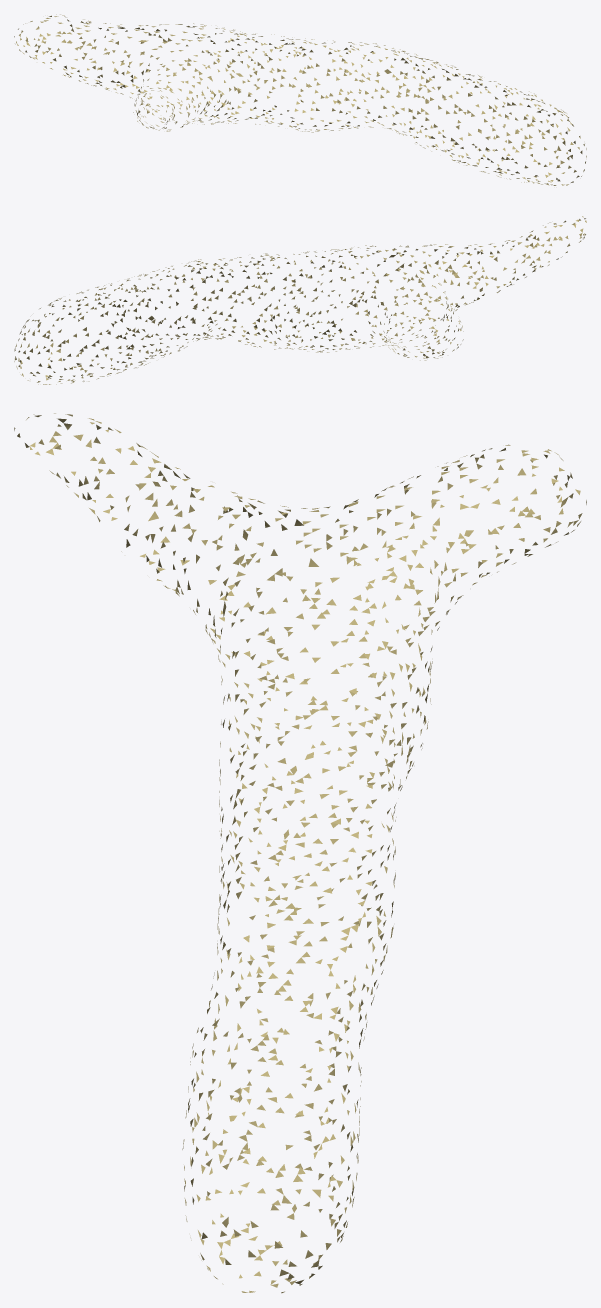
The model's file is morph_008.glb.
3 views of the same model, one above another, from view 1: azimuth 30°, elevation 25°; view 2: azimuth 150°, elevation 25°; view 3: azimuth 270°, elevation 25° (orthographic). The views are drawn at different scales.
Bounding box in the file's own units: 88.56 × 39.91 × 46.55.
